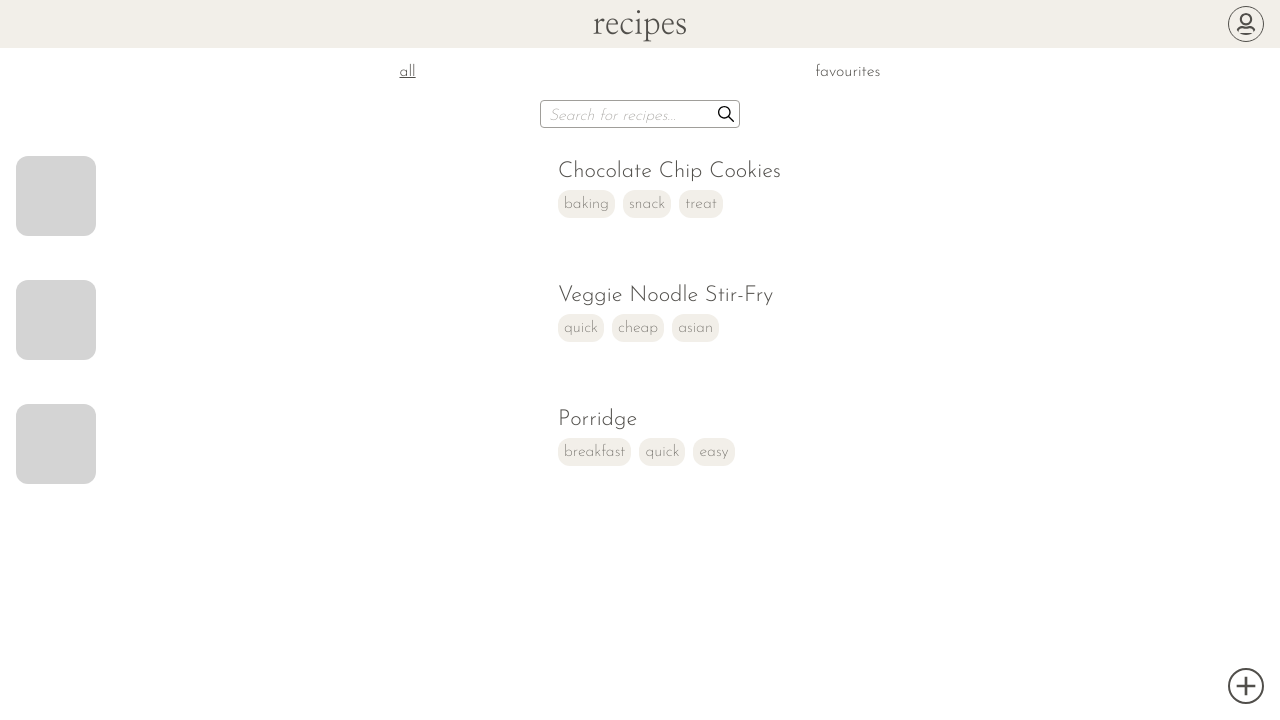
Scenario: test filter with no favourites match
Type "granola" into the search field with placeholder "Search for recipes...".
click(640, 114); type("granola")  # box [540,100,740,128]
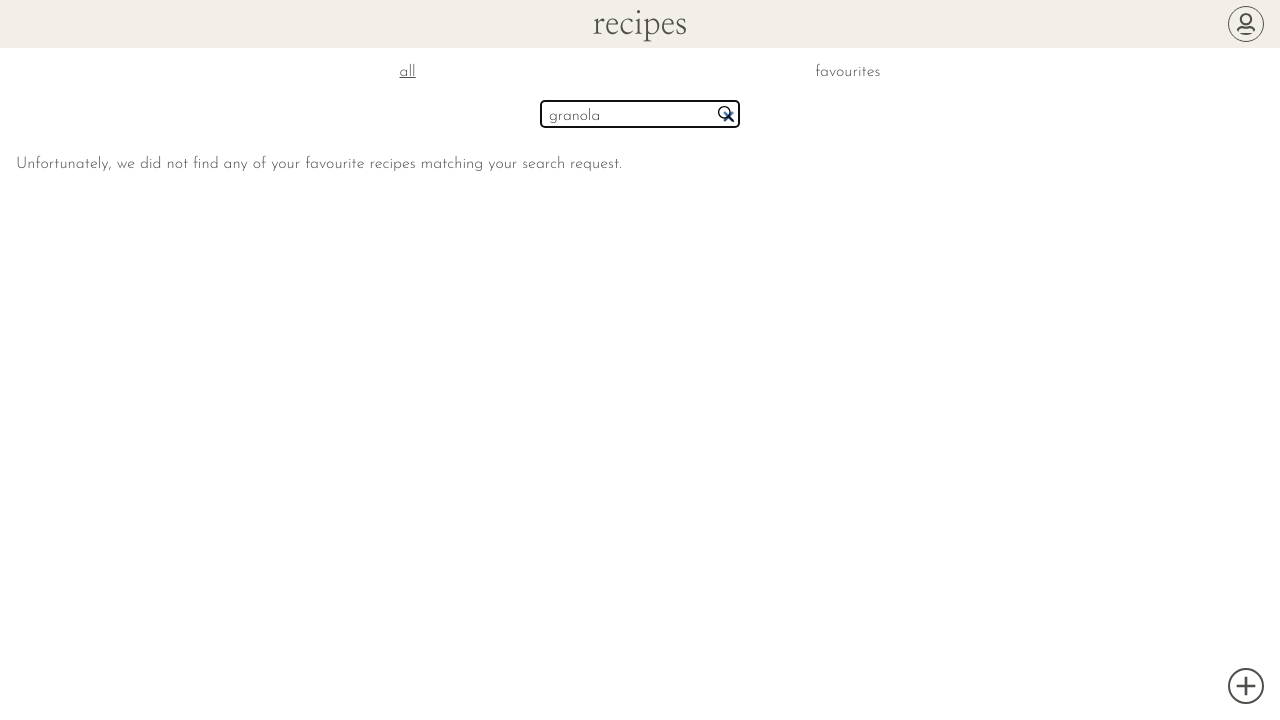
Now the text "Unfortunately, we did not find any of your favourite recipes matching your search request." is shown, box [16,156,622,172]
